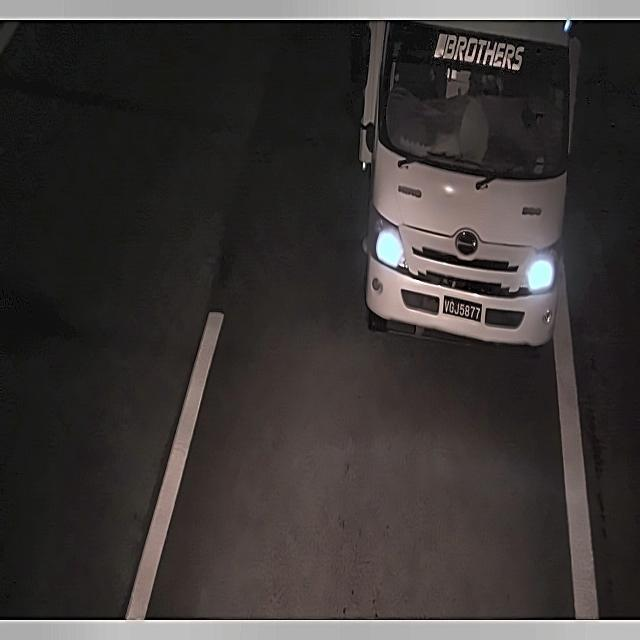car: (437, 291, 487, 331)
